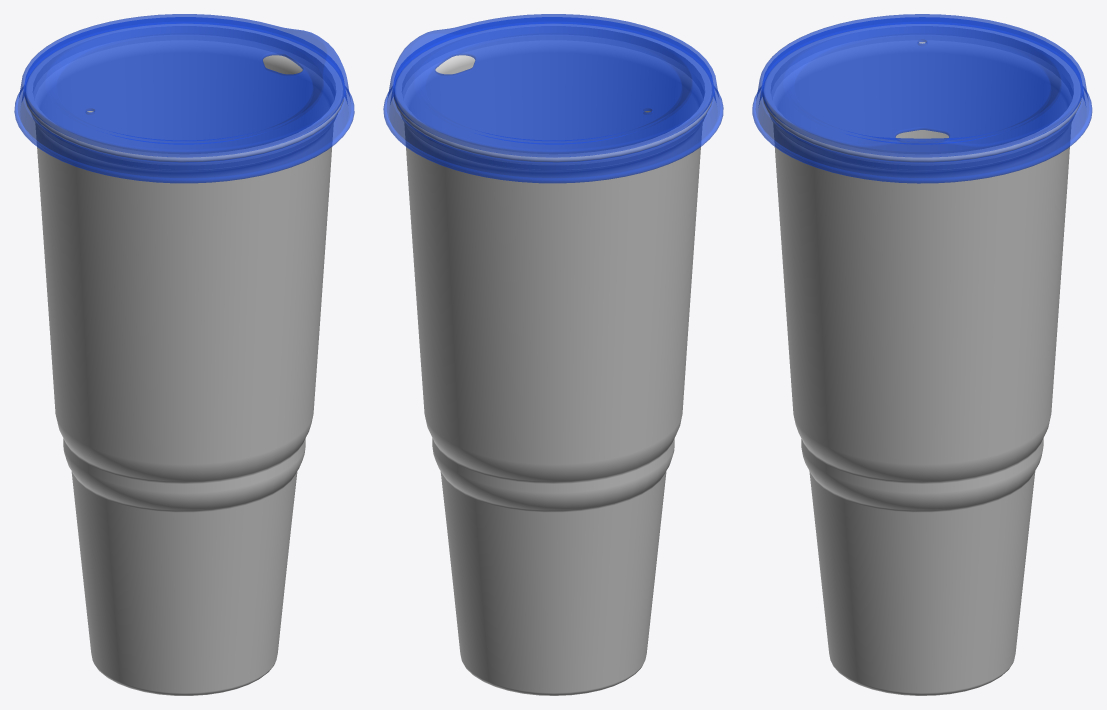
File: hero.glb
3 renders of one model, left to right at view 1: azimuth 30°, elevation 25°; view 2: azimuth 150°, elevation 25°; view 3: azimuth 270°, elevation 25°, orthographic.
Visible parts, largest first — view 1: Solid1, Solid2; view 2: Solid1, Solid2; view 3: Solid1, Solid2.
Part boxes in pixels (<box>): Solid1: <box>24,24,343,695</box>; Solid2: <box>14,14,354,183</box>; Solid1: <box>394,24,713,695</box>; Solid2: <box>383,14,723,183</box>; Solid1: <box>763,24,1081,695</box>; Solid2: <box>752,14,1092,183</box>.
Size of the model in its own units: 0.1102 by 0.2094 by 0.1101.
